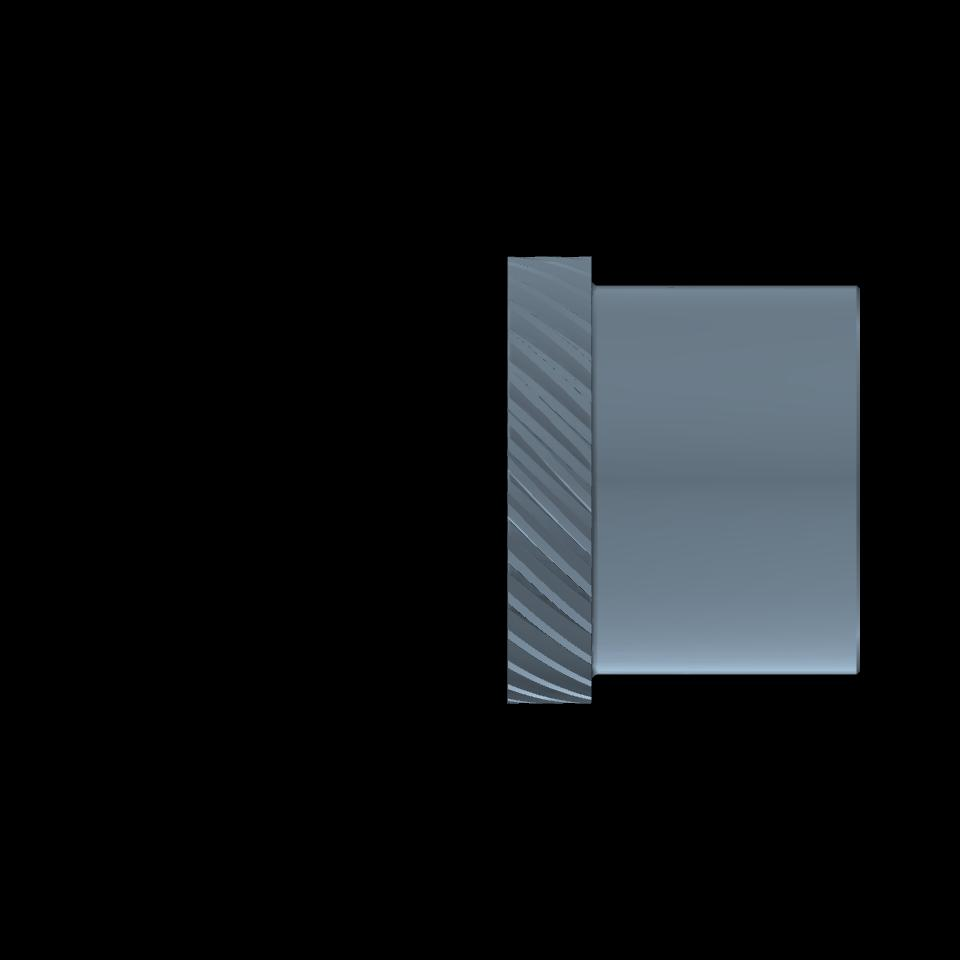Helical: (507, 257, 592, 702)
